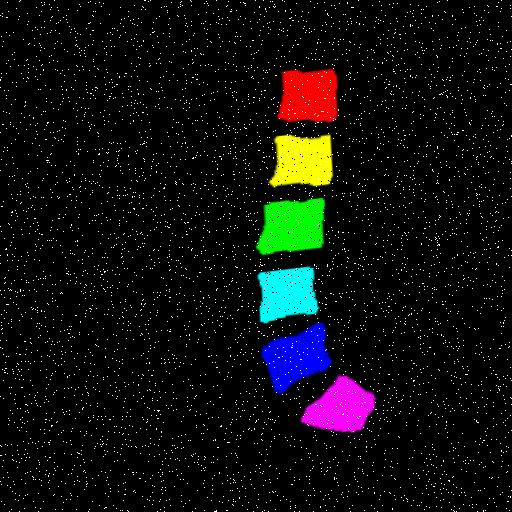L1: (281, 70, 339, 123)
L2: (272, 135, 335, 187)
L3: (261, 198, 329, 254)
L4: (263, 267, 322, 322)
L5: (267, 323, 336, 392)
S1: (308, 377, 381, 432)
